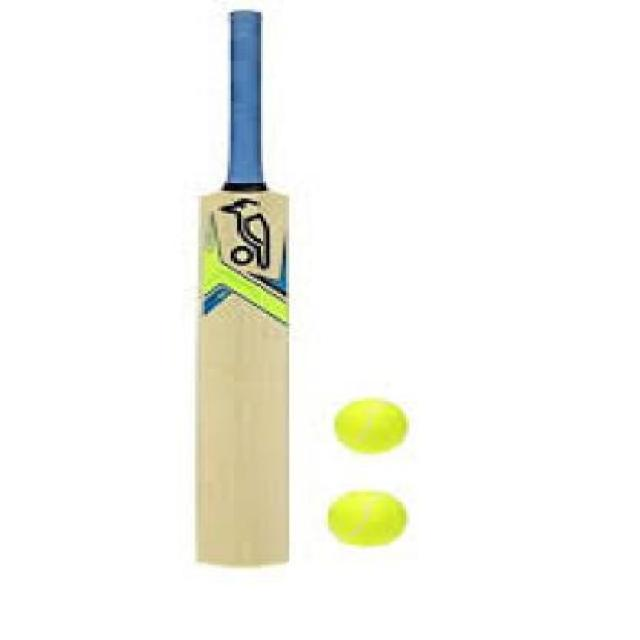ball: (313, 481, 434, 576), (313, 375, 432, 463)
